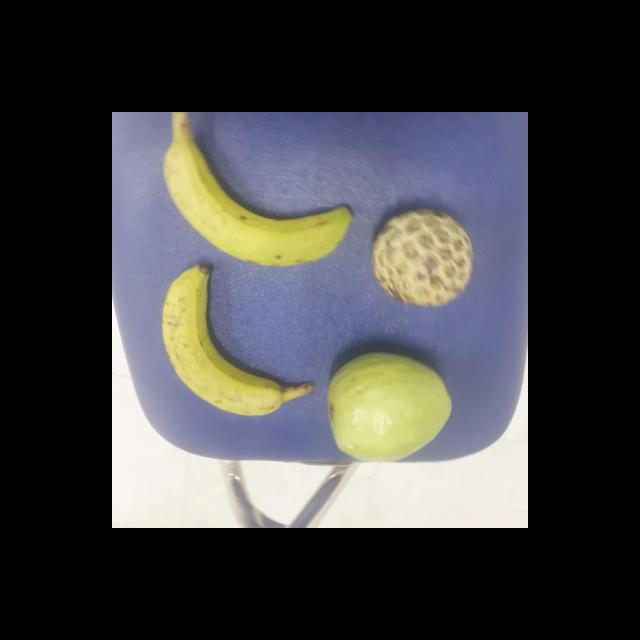Sakya fruit: (372, 208, 478, 306)
banana: (176, 128, 362, 266), (165, 264, 318, 414)
guava: (328, 350, 453, 464)
